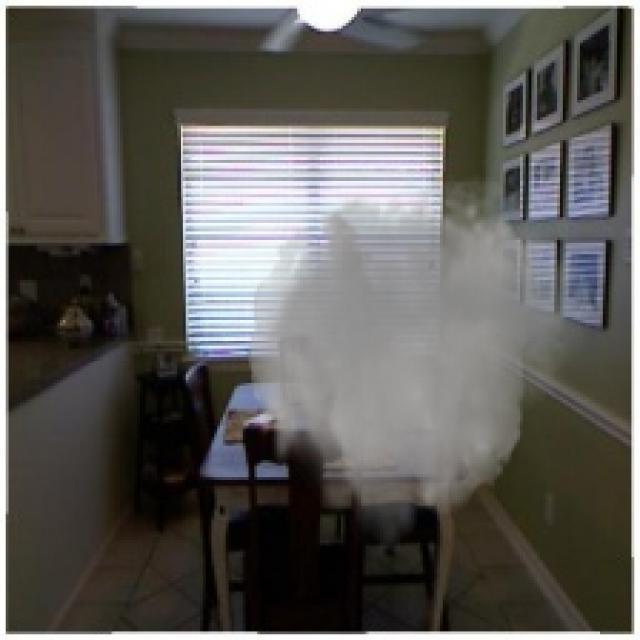Smoke: (239, 160, 592, 560)
